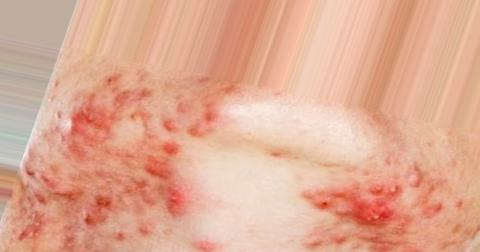Acne: (16, 66, 479, 249)
